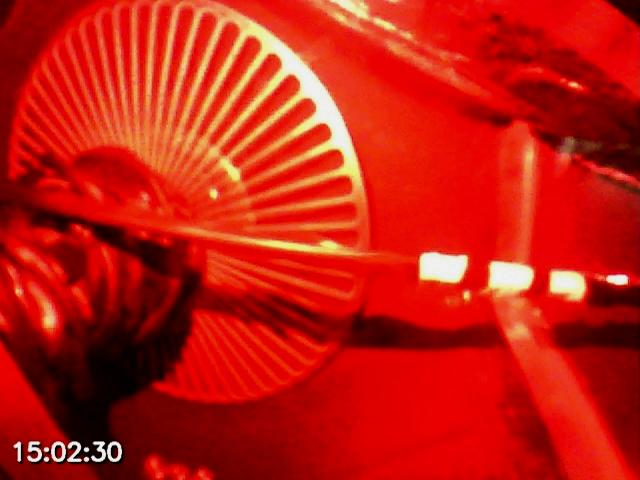white-dots: (417, 252, 587, 302)
